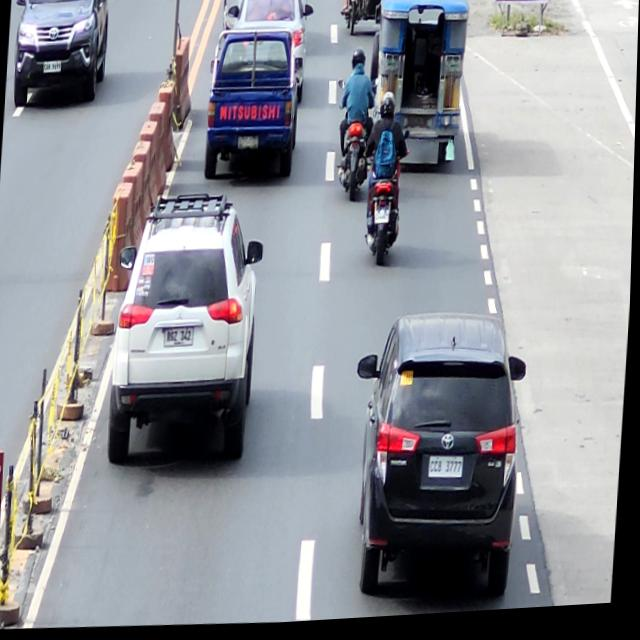Car: (345, 309, 532, 610), (107, 188, 268, 470), (203, 27, 304, 185), (8, 0, 110, 110), (216, 0, 314, 110)
Jeep: (364, 0, 470, 176)
License-Plate: (428, 456, 467, 486), (163, 322, 197, 354), (236, 134, 261, 154), (405, 117, 431, 135), (372, 210, 394, 231), (41, 60, 64, 75)
Motorcycle: (359, 152, 409, 271), (335, 108, 374, 207)
Tricycle: (338, 0, 391, 47)
